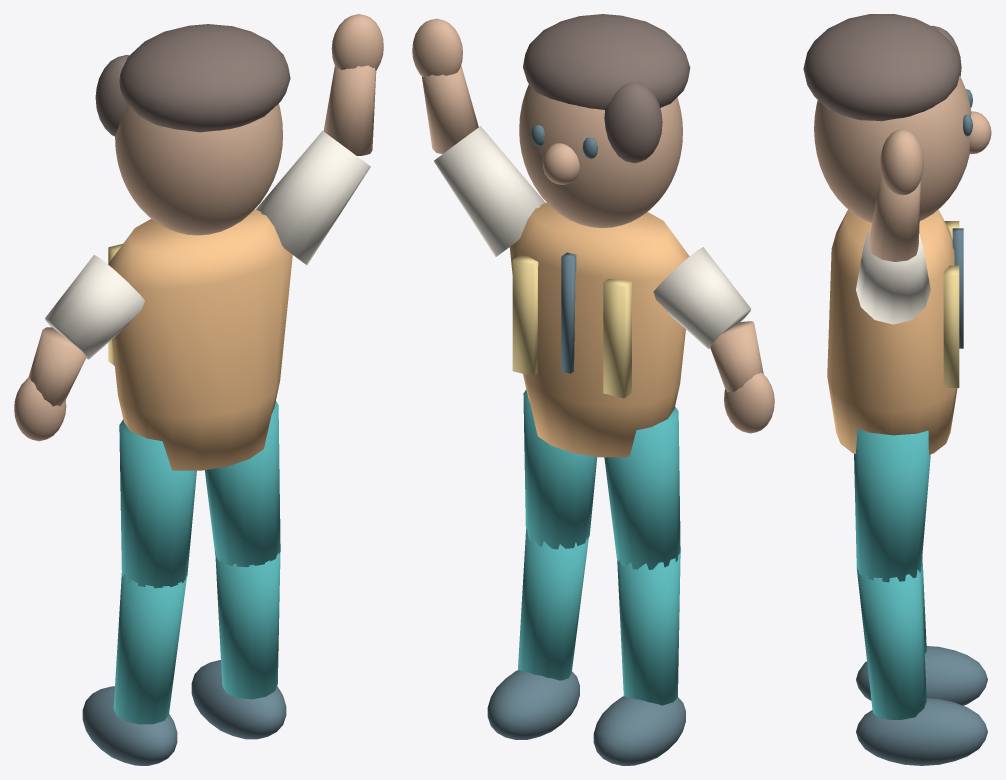
The model's file is rescue_person_adult.glb.
The picture shows the model from 3 angles, left to right: view 1: azimuth 30°, elevation 25°; view 2: azimuth 150°, elevation 25°; view 3: azimuth 270°, elevation 25°; orthographic projection. The views are drawn at different scales.
Visible parts, largest first — view 1: jacket_body, head, hair_cap, trouser_thigh_-1, trouser_shin_-1, trouser_shin_1, trouser_thigh_1, sleeve_1, sleeve_-1, shoe_-1, shoe_1, forearm_1 (+4 smaller); view 2: jacket_body, head, hair_cap, trouser_thigh_-1, trouser_shin_-1, trouser_shin_1, sleeve_1, trouser_thigh_1, sleeve_-1, shoe_-1, shoe_1, side_fringe (+8 smaller); view 3: jacket_body, hair_cap, head, trouser_thigh_1, trouser_shin_1, shoe_1, sleeve_1, forearm_1, shoe_-1, hand_1, vest_reflector_1, zipper (+1 smaller).
Part boxes in pixels (left/top/right/bottom): jacket_body: left=108, top=209, right=292, bottom=470; head: left=115, top=103, right=282, bottom=235; hair_cap: left=119, top=24, right=290, bottom=132; trouser_thigh_-1: left=119, top=419, right=196, bottom=588; trouser_shin_-1: left=113, top=573, right=186, bottom=724; trouser_shin_1: left=215, top=551, right=280, bottom=699; trouser_thigh_1: left=204, top=401, right=280, bottom=567; sleeve_1: left=256, top=131, right=370, bottom=264; sleeve_-1: left=45, top=255, right=144, bottom=359; shoe_-1: left=82, top=686, right=177, bottom=765; shoe_1: left=191, top=660, right=286, bottom=739; forearm_1: left=323, top=65, right=376, bottom=155; jacket_body: left=509, top=202, right=689, bottom=457; head: left=519, top=84, right=682, bottom=228; hair_cap: left=523, top=14, right=690, bottom=109; trouser_thigh_-1: left=604, top=406, right=680, bottom=569; trouser_shin_-1: left=617, top=553, right=680, bottom=705; trouser_shin_1: left=518, top=529, right=588, bottom=680; sleeve_1: left=434, top=126, right=545, bottom=256; trouser_thigh_1: left=523, top=389, right=597, bottom=549; sleeve_-1: left=653, top=247, right=750, bottom=349; shoe_-1: left=593, top=696, right=685, bottom=765; shoe_1: left=487, top=670, right=579, bottom=739; side_fringe: left=604, top=82, right=662, bottom=163; jacket_body: left=827, top=209, right=957, bottom=454; hair_cap: left=803, top=14, right=960, bottom=121; head: left=814, top=76, right=971, bottom=223; trouser_thigh_1: left=854, top=428, right=930, bottom=582; trouser_shin_1: left=857, top=569, right=926, bottom=719; shoe_1: left=856, top=698, right=987, bottom=765; sleeve_1: left=856, top=231, right=930, bottom=324; forearm_1: left=868, top=173, right=920, bottom=261; shoe_-1: left=856, top=646, right=987, bottom=705; hand_1: left=880, top=129, right=923, bottom=195; vest_reflector_1: left=943, top=265, right=959, bottom=387; zipper: left=952, top=228, right=963, bottom=348.
Size of the model in its own units: 0.942 by 1.77 by 0.427.
